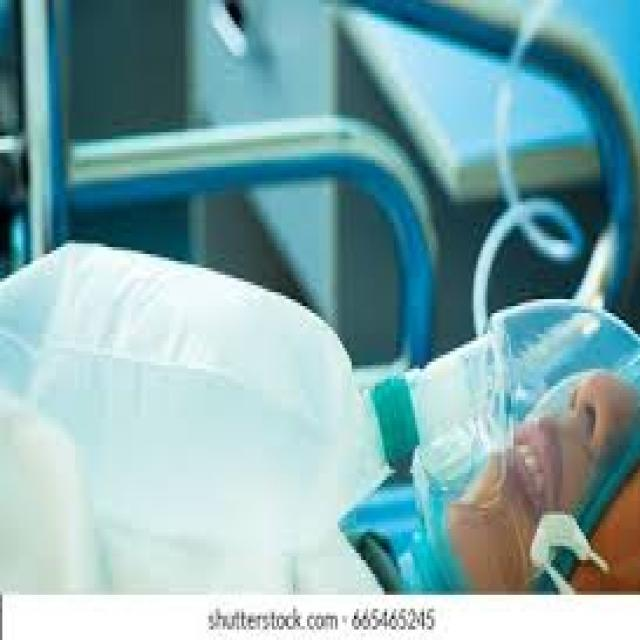oxygen_mask: (337, 267, 629, 521)
